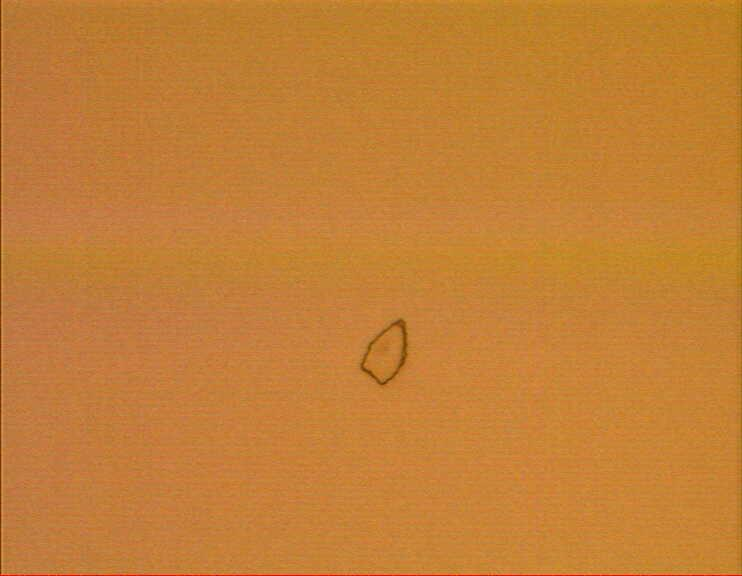PIQ PARTICLE: (357, 316, 415, 391)
